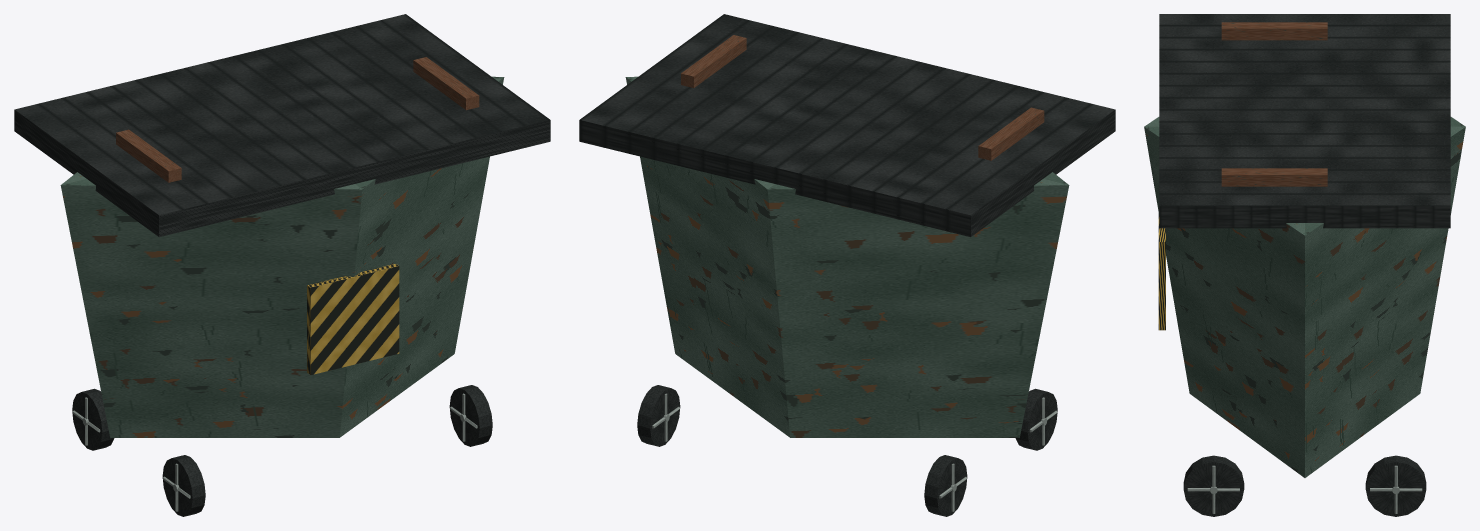
The model's file is Dumpster.obj.
The picture shows the model from 3 angles, left to right: view 1: azimuth 30°, elevation 25°; view 2: azimuth 150°, elevation 25°; view 3: azimuth 270°, elevation 25°; orthographic projection.
Parts seen in each view (by area): view 1: Dumpster; view 2: Dumpster; view 3: Dumpster.
Boxes of the visible parts, <box> form: Dumpster: <box>14,14,550,516</box>; Dumpster: <box>579,14,1115,516</box>; Dumpster: <box>1144,14,1465,516</box>.
Size of the model in its own units: 1.7 by 1.25 by 1.06.
5 materials, 5 textured.
